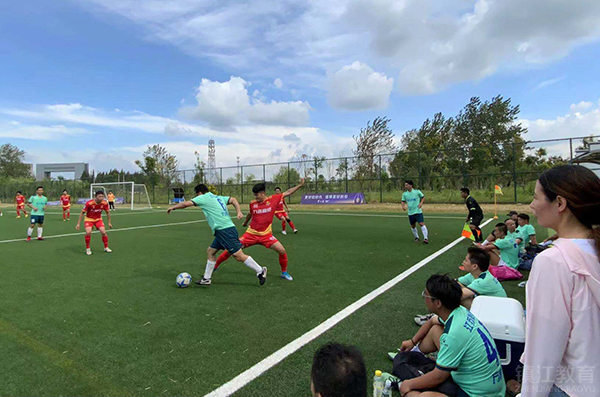football: (174, 270, 193, 288)
